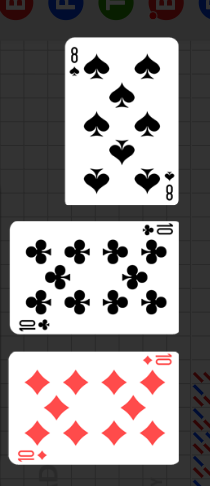10C: (140, 223, 175, 238)
10D: (17, 449, 49, 462)
8S: (68, 46, 81, 79)
